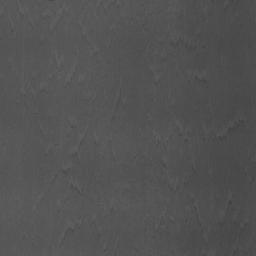Silk spot: (64, 64, 81, 88), (170, 38, 197, 51), (228, 120, 248, 136), (60, 228, 75, 248), (195, 76, 208, 88), (70, 184, 83, 196), (208, 136, 226, 144), (116, 88, 122, 109), (227, 200, 235, 211), (62, 168, 70, 177)
